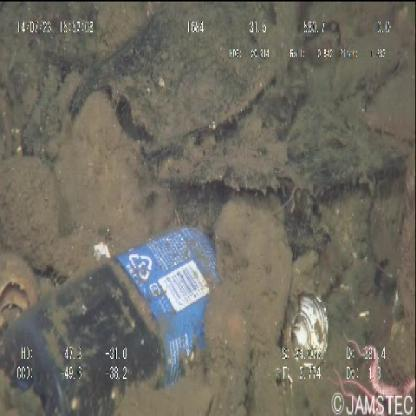Rác: (0, 226, 221, 416)
